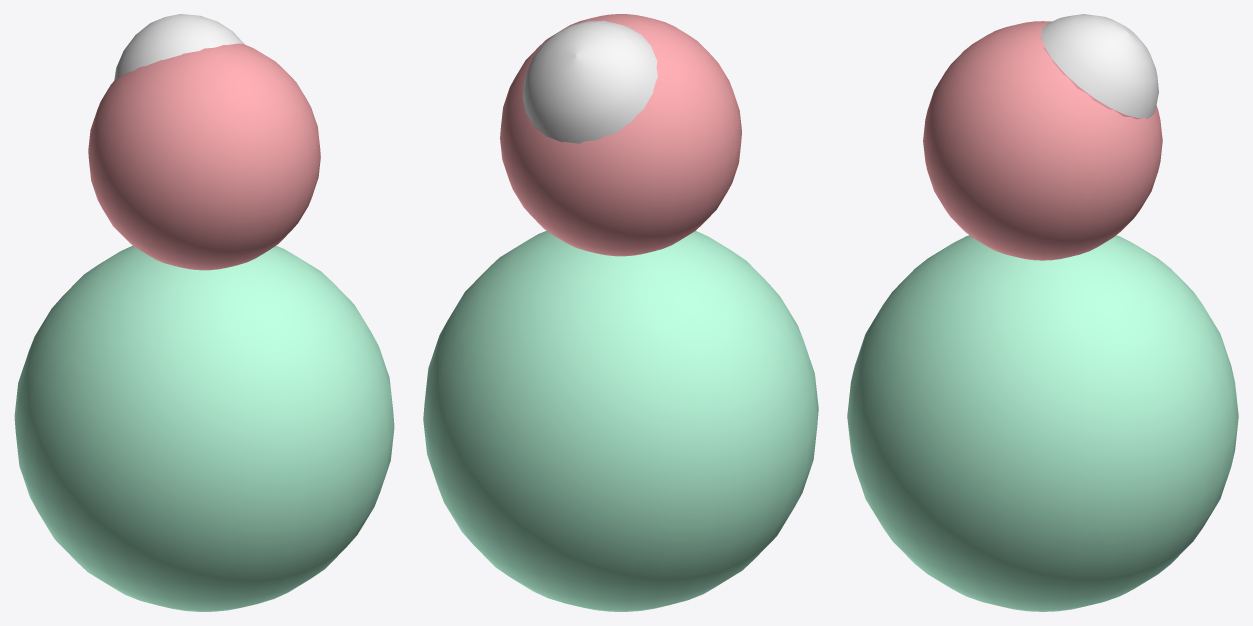
The model's file is Gosn2.fbx.
3 renders of one model, left to right at view 1: azimuth 30°, elevation 25°; view 2: azimuth 150°, elevation 25°; view 3: azimuth 270°, elevation 25°, orthographic. The views are drawn at different scales.
Visible parts, largest first — view 1: cika_3_1, cika_3_1.001, cika_3_1.002; view 2: cika_3_1, cika_3_1.001, cika_3_1.002; view 3: cika_3_1, cika_3_1.001, cika_3_1.002.
Part boxes in pixels (x1,y1,x2,y2): cika_3_1: [14, 245, 394, 611]; cika_3_1.001: [88, 43, 320, 270]; cika_3_1.002: [114, 14, 244, 80]; cika_3_1: [423, 230, 818, 611]; cika_3_1.001: [500, 14, 741, 256]; cika_3_1.002: [522, 20, 657, 143]; cika_3_1: [847, 235, 1238, 611]; cika_3_1.001: [923, 21, 1162, 260]; cika_3_1.002: [1040, 14, 1158, 119].
Size of the model in its own units: 5301 by 8562 by 5301.
